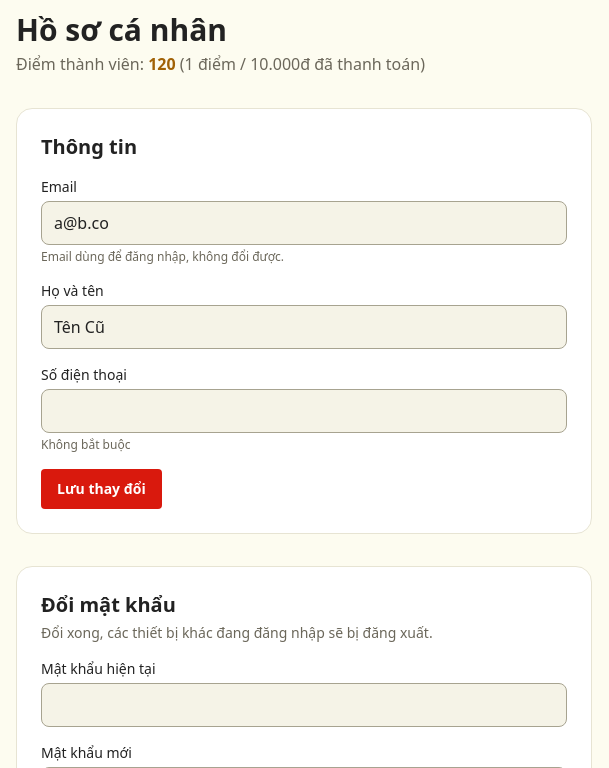
Test case: ProfilePage (P12) › dữ liệu sai: báo ngay ở ô, KHÔNG gọi server
Type "123" into the field labelled "Số điện thoại".
click(304, 411); type("123")  # box [41,389,567,433]
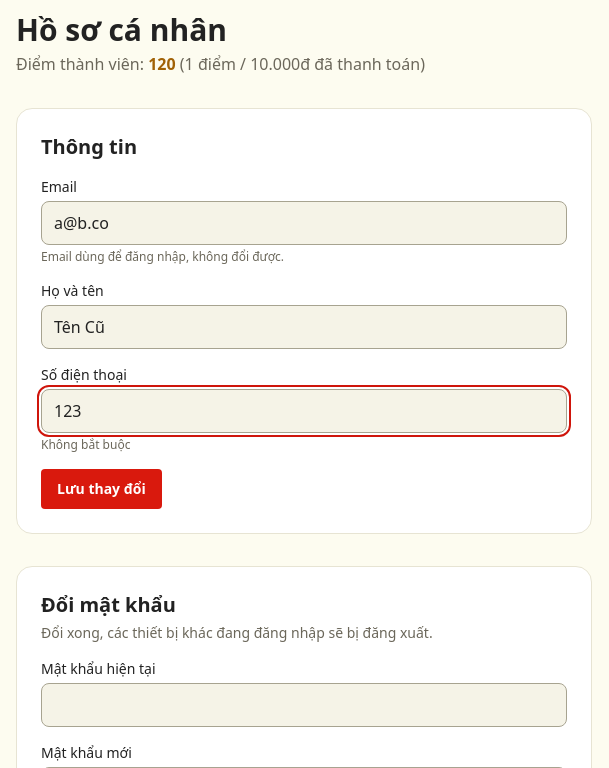
Click the button "Lưu thay đổi".
click(101, 489)  # box [41,469,162,509]
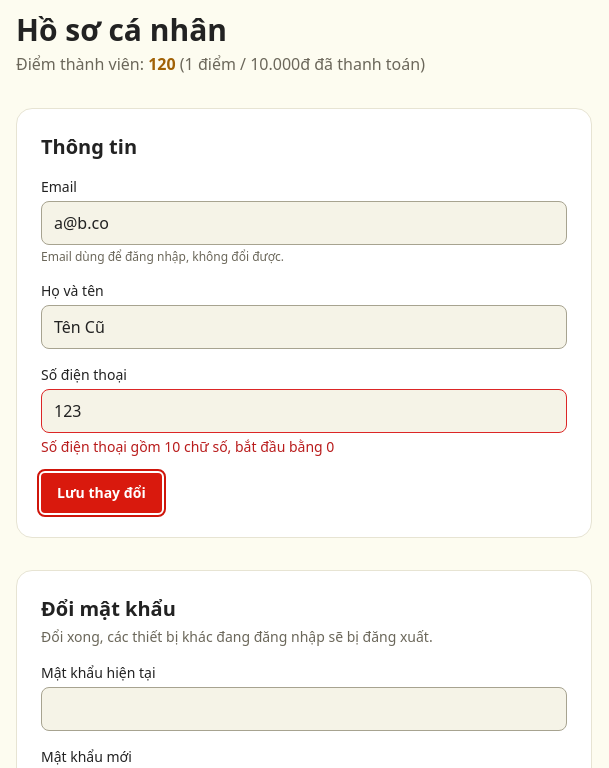
Result: the text "Số điện thoại gồm 10 chữ số, bắt đầu bằng 0" is shown at [41,437,334,456]
